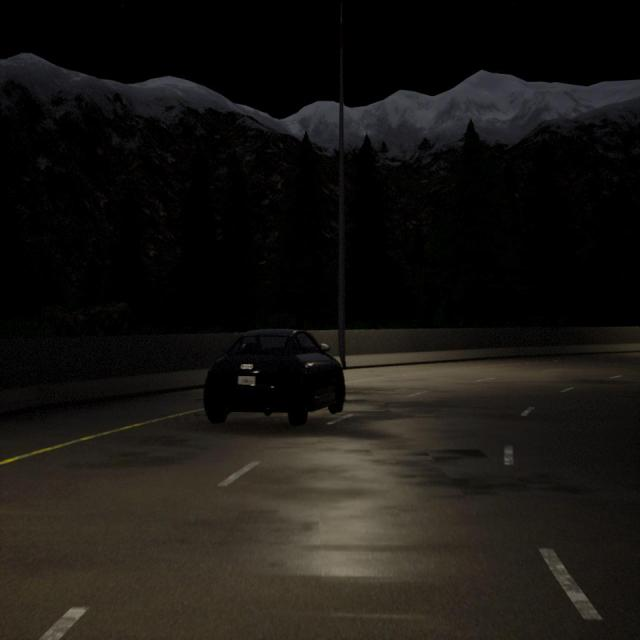Vehicle: (202, 330, 345, 428)
